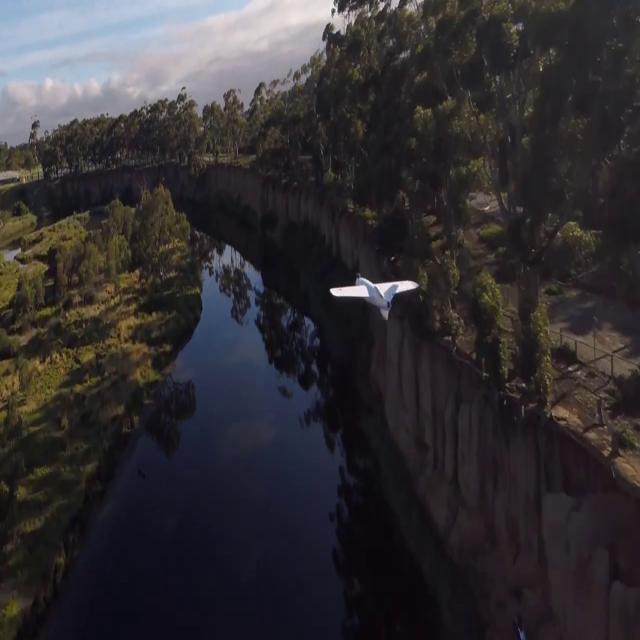iha: (361, 270, 387, 326)
